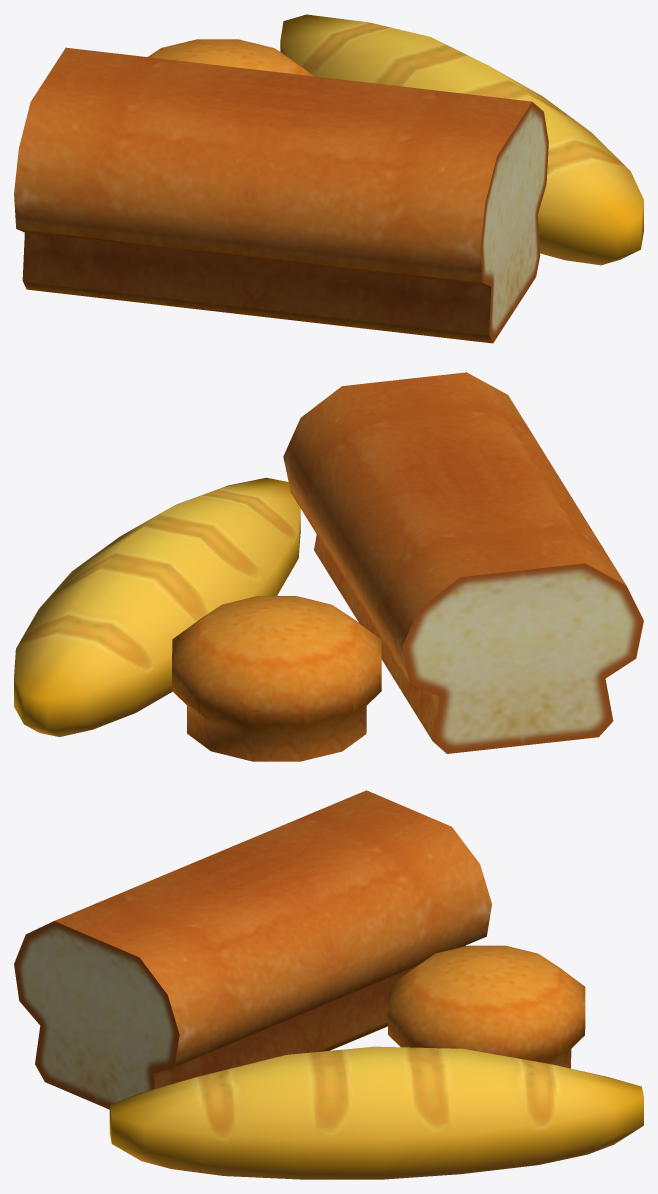
The model's file is jia_mianbao.FBX.
The picture shows the model from 3 angles, top to bottom: view 1: azimuth 30°, elevation 25°; view 2: azimuth 150°, elevation 25°; view 3: azimuth 270°, elevation 25°; orthographic projection. The views are drawn at different scales.
Parts seen in each view (by area): view 1: jia_mianbao; view 2: jia_mianbao; view 3: jia_mianbao.
Part boxes in pixels (x1=…): jia_mianbao: x1=14, y1=14, x2=643, y2=343; jia_mianbao: x1=14, y1=372, x2=643, y2=761; jia_mianbao: x1=14, y1=790, x2=643, y2=1179.
Size of the model in its own units: 40.4 by 12.51 by 43.27.
